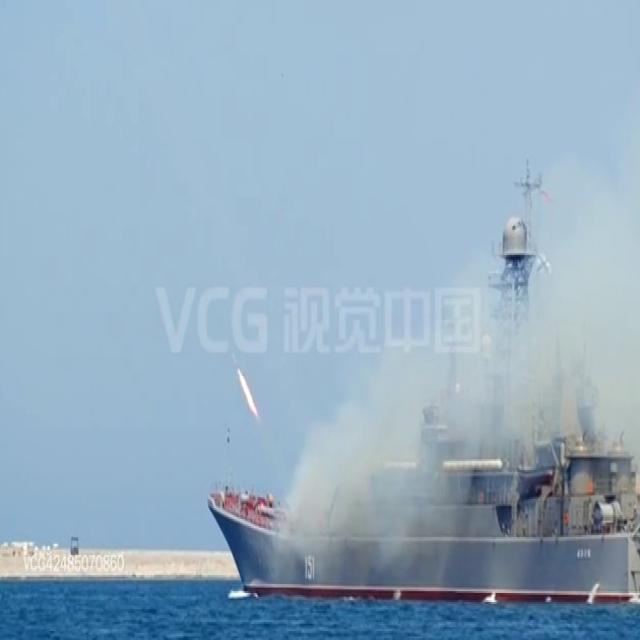navalvessels: (214, 250, 640, 610)
